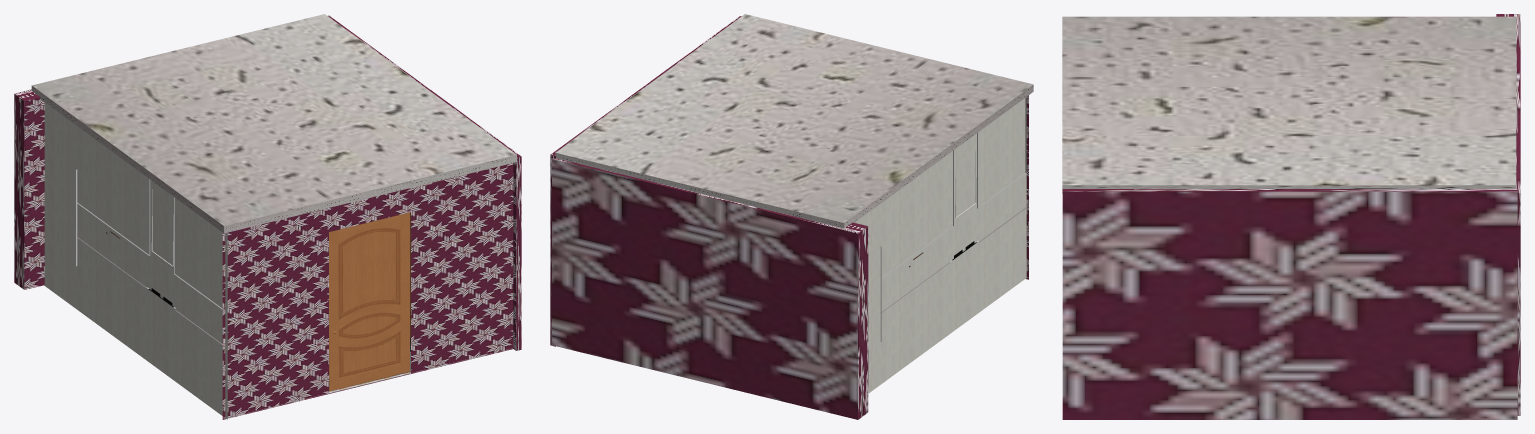
File: Kitchen.fbx
3 renders of one model, left to right at view 1: azimuth 30°, elevation 25°; view 2: azimuth 150°, elevation 25°; view 3: azimuth 270°, elevation 25°, orthographic. The views are drawn at different scales.
Visible parts, largest first — view 1: Cube.018, Plane.007, Plane.009, Plane.000, Cube.013, Cube.021; view 2: Cube.013, Cube.018, Plane.009, Cube.021, Plane.007, Cube.003; view 3: Cube.021, Cube.018, Cube.013.
Part boxes in pixels (x1=…): Cube.018: x1=31, y1=14, x2=516, y2=233; Plane.007: x1=222, y1=163, x2=513, y2=419; Plane.009: x1=44, y1=102, x2=227, y2=419; Plane.000: x1=329, y1=212, x2=410, y2=391; Cube.013: x1=14, y1=89, x2=44, y2=289; Cube.021: x1=328, y1=15, x2=521, y2=350; Cube.013: x1=552, y1=158, x2=868, y2=419; Cube.018: x1=555, y1=14, x2=1033, y2=228; Plane.009: x1=855, y1=98, x2=1026, y2=393; Cube.021: x1=550, y1=16, x2=741, y2=346; Plane.007: x1=1025, y1=95, x2=1028, y2=279; Cube.003: x1=881, y1=97, x2=1026, y2=278; Cube.021: x1=1062, y1=188, x2=1517, y2=419; Cube.018: x1=1062, y1=16, x2=1516, y2=193; Cube.013: x1=1496, y1=14, x2=1520, y2=415.
Bounding box in the file's own units: 506 × 303 × 542.
